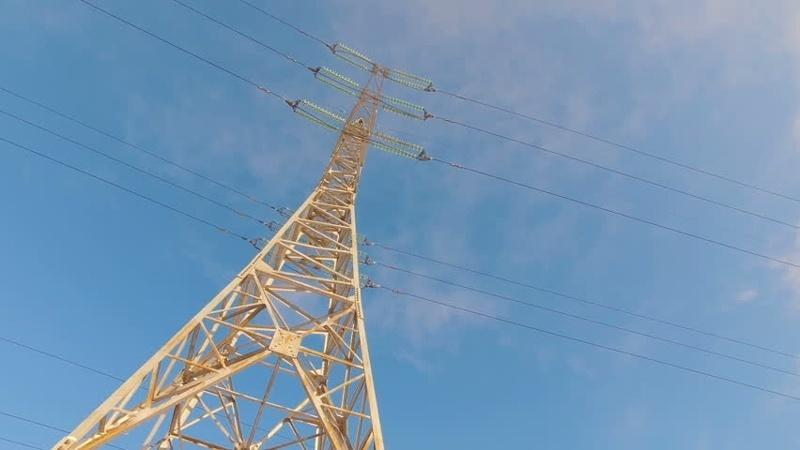power_tower: (45, 17, 505, 448)
